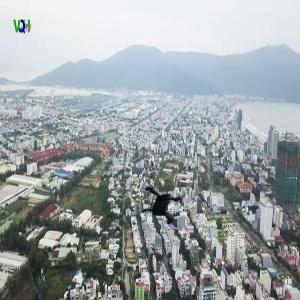drone: (131, 172, 197, 238)
